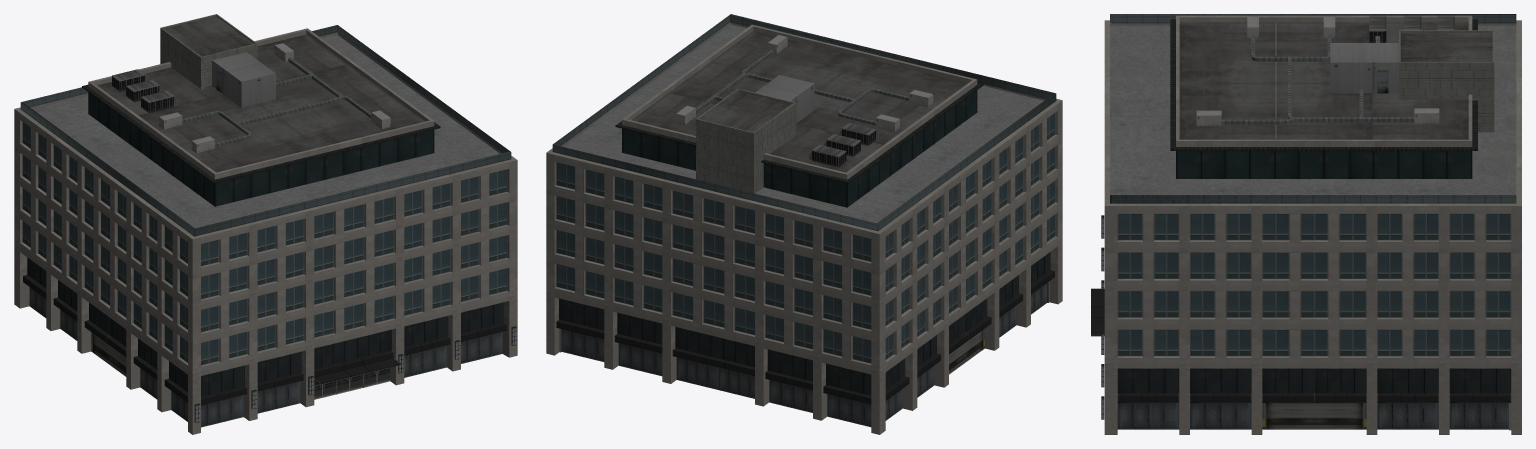
The model's file is bank_main.glb.
The picture shows the model from 3 angles, left to right: view 1: azimuth 30°, elevation 25°; view 2: azimuth 150°, elevation 25°; view 3: azimuth 270°, elevation 25°; orthographic projection. The views are drawn at different scales.
Parts seen in each view (by area): view 1: AIT01W2W3_AIT01W2W3_0; view 2: AIT01W2W3_AIT01W2W3_0; view 3: AIT01W2W3_AIT01W2W3_0.
Part boxes in pixels (bbox=[...]): AIT01W2W3_AIT01W2W3_0: bbox=[14, 14, 517, 434]; AIT01W2W3_AIT01W2W3_0: bbox=[546, 14, 1062, 434]; AIT01W2W3_AIT01W2W3_0: bbox=[1091, 14, 1521, 434].
Bounding box in the file's own units: 16.84 × 12.5 × 16.51.
1 material, 1 textured.
